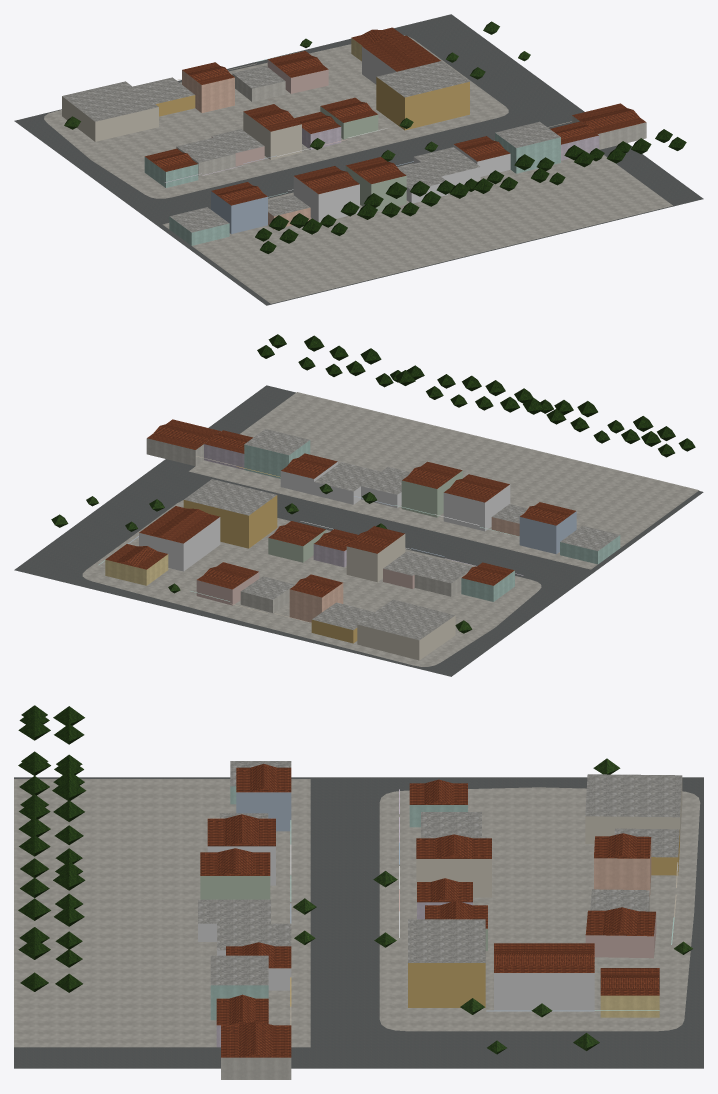
Rendered from cidade_S03_00_lod.gltf.
The picture shows the model from 3 angles, top to bottom: view 1: azimuth 30°, elevation 25°; view 2: azimuth 150°, elevation 25°; view 3: azimuth 270°, elevation 25°; orthographic projection. The views are drawn at different scales.
Parts seen in each view (by area): view 1: S03_00_Chao_LOD2, S03_00_Edificios_LOD1, S03_00_Silhueta_LOD2, S03_00_Vegetacao_LOD2; view 2: S03_00_Chao_LOD2, S03_00_Edificios_LOD1, S03_00_Silhueta_LOD2, S03_00_Vegetacao_LOD2; view 3: S03_00_Chao_LOD2, S03_00_Edificios_LOD1, S03_00_Silhueta_LOD2, S03_00_Vegetacao_LOD2.
Boxes of the visible parts, x1=… form: S03_00_Chao_LOD2: x1=14, y1=14, x2=703, y2=305; S03_00_Edificios_LOD1: x1=62, y1=29, x2=646, y2=245; S03_00_Silhueta_LOD2: x1=144, y1=27, x2=646, y2=233; S03_00_Vegetacao_LOD2: x1=64, y1=21, x2=686, y2=253; S03_00_Chao_LOD2: x1=14, y1=385, x2=703, y2=676; S03_00_Edificios_LOD1: x1=98, y1=424, x2=620, y2=660; S03_00_Silhueta_LOD2: x1=105, y1=419, x2=576, y2=622; S03_00_Vegetacao_LOD2: x1=51, y1=334, x2=695, y2=633; S03_00_Chao_LOD2: x1=14, y1=777, x2=703, y2=1068; S03_00_Edificios_LOD1: x1=198, y1=761, x2=682, y2=1079; S03_00_Silhueta_LOD2: x1=200, y1=767, x2=659, y2=1079; S03_00_Vegetacao_LOD2: x1=18, y1=705, x2=692, y2=1054.
Size of the model in its own units: 104 by 15.84 by 100.
18 materials, 18 textured.
